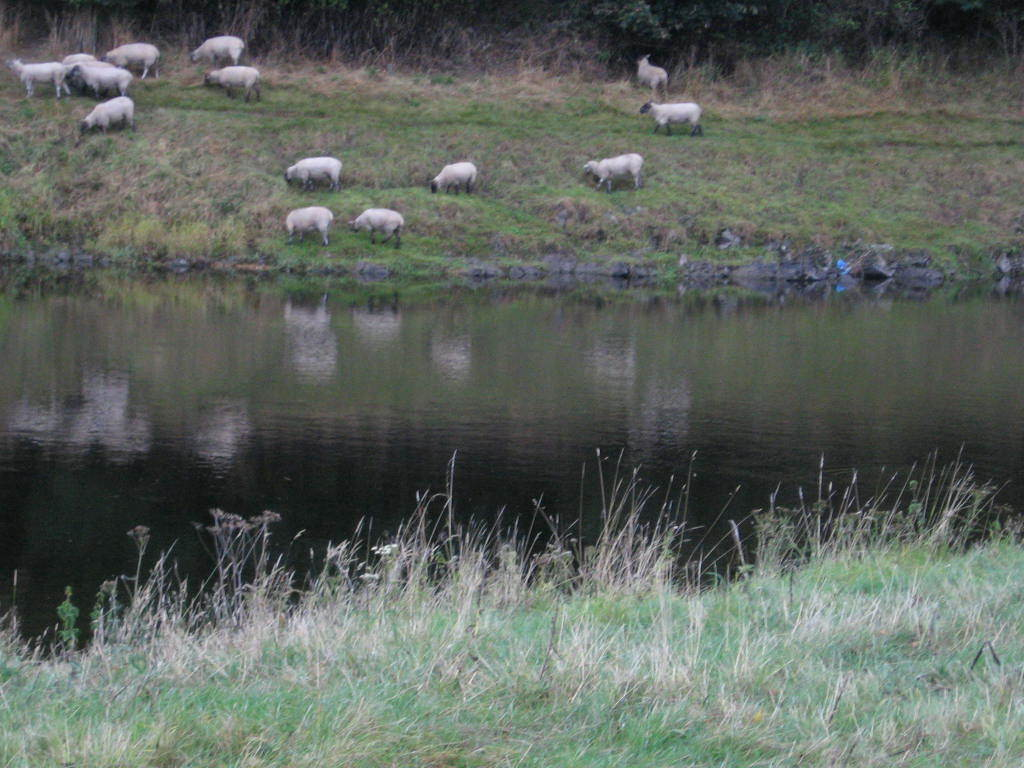sheep: (346, 205, 405, 251), (579, 152, 638, 194), (641, 101, 702, 135), (202, 66, 266, 98), (282, 158, 344, 191), (280, 205, 334, 242), (190, 35, 248, 67), (426, 165, 480, 195), (636, 56, 668, 97)
